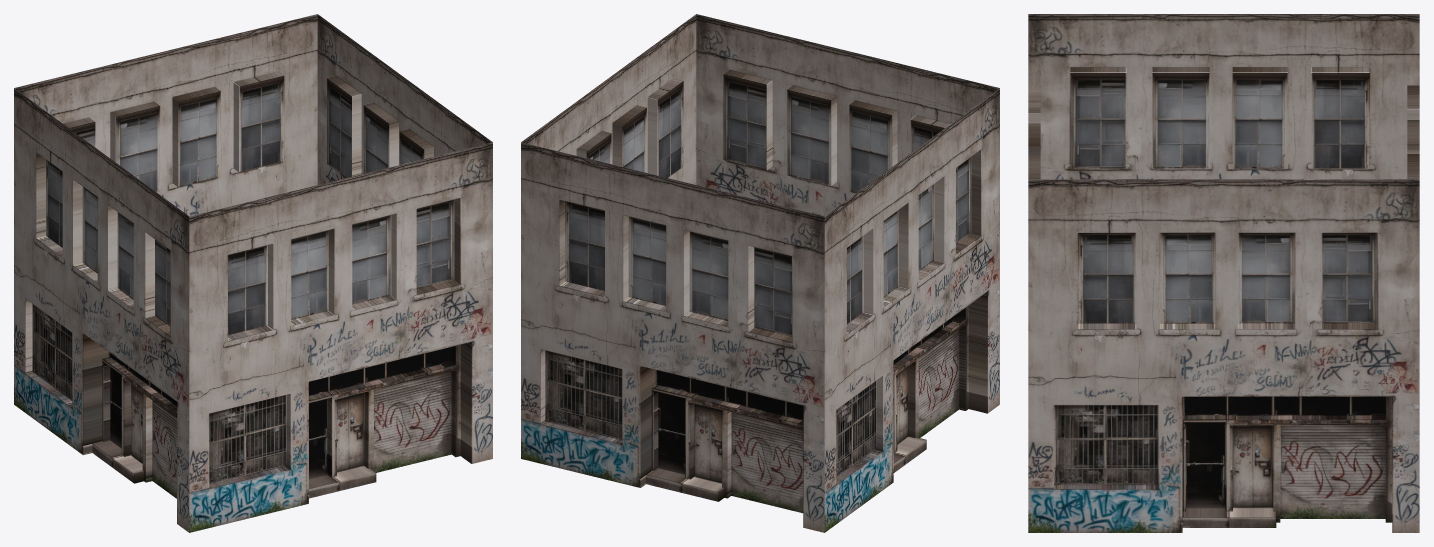
File: old_building__lowpoly.glb
3 views of the same model, side by side, from view 1: azimuth 30°, elevation 25°; view 2: azimuth 150°, elevation 25°; view 3: azimuth 270°, elevation 25° (orthographic). The views are drawn at different scales.
Parts seen in each view (by area): view 1: building_Building_0, building_Windows_0; view 2: building_Building_0, building_Windows_0; view 3: building_Building_0, building_Windows_0.
Part boxes in pixels (left/top/right/bottom): building_Building_0: left=14, top=14, right=492, bottom=532; building_Windows_0: left=32, top=75, right=455, bottom=484; building_Building_0: left=521, top=14, right=999, bottom=532; building_Windows_0: left=545, top=74, right=971, bottom=477; building_Building_0: left=1028, top=14, right=1419, bottom=532; building_Windows_0: left=1054, top=73, right=1385, bottom=485.
Size of the model in its own units: 9.04 by 9.01 by 9.04.
Materials: 2 (2 with a texture image).
